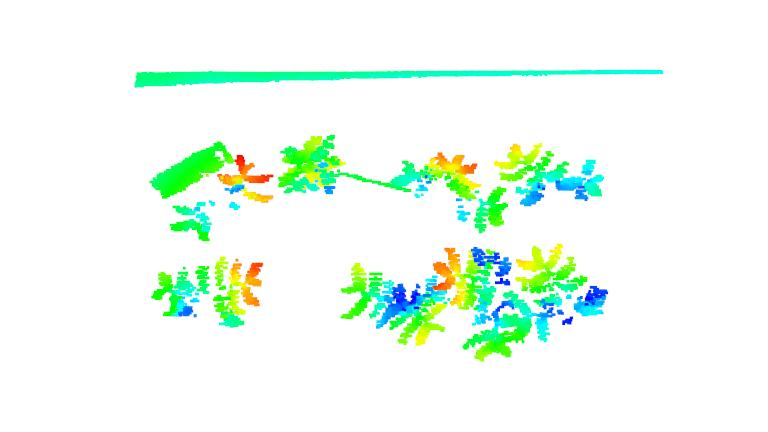chickpea: (428, 245, 543, 349), (395, 146, 510, 234), (512, 239, 611, 338), (174, 147, 272, 240), (335, 266, 447, 344), (146, 257, 262, 332), (494, 137, 603, 205), (281, 129, 346, 200)
